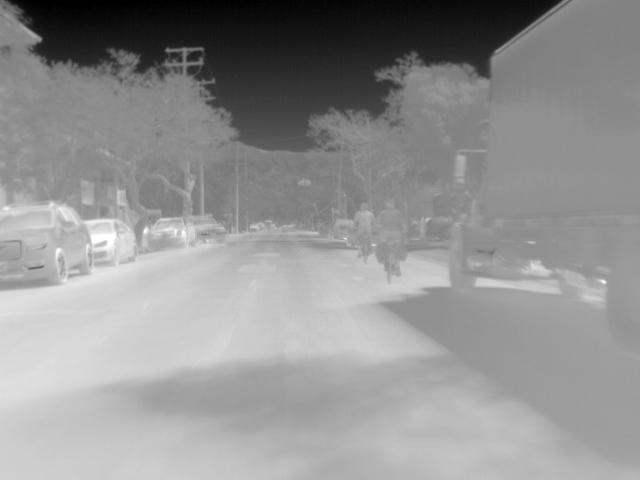car: (0, 200, 98, 285), (84, 218, 132, 269), (147, 218, 194, 250), (185, 214, 223, 244), (328, 218, 358, 244), (248, 222, 261, 234)
person: (382, 199, 401, 268), (355, 202, 375, 252)
